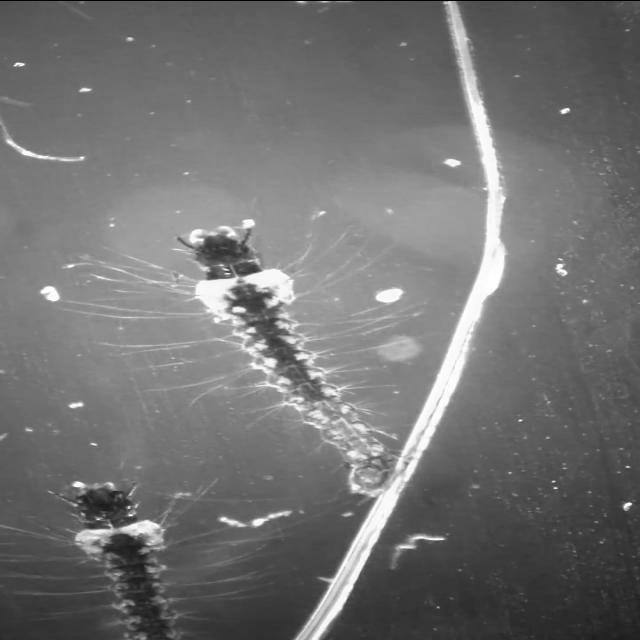larvas: (185, 227, 390, 488), (69, 478, 186, 640)
